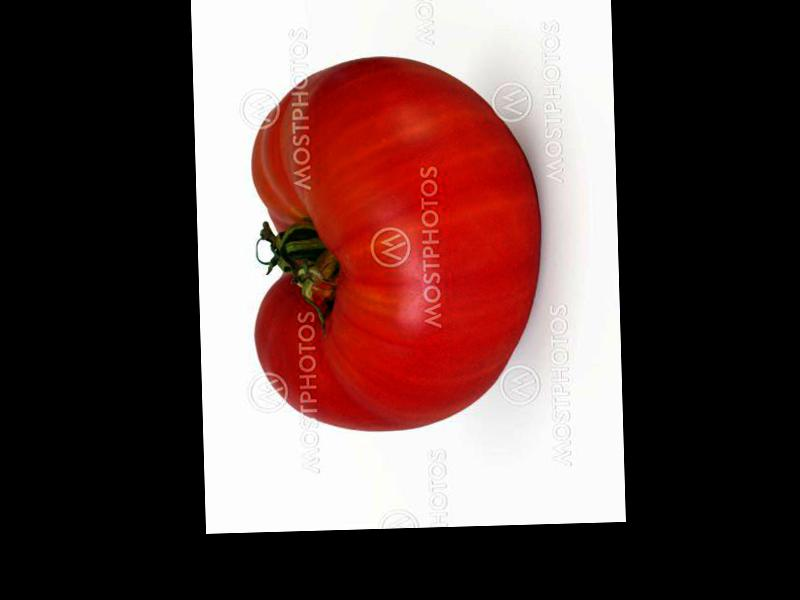Tomato: (246, 52, 544, 433)
